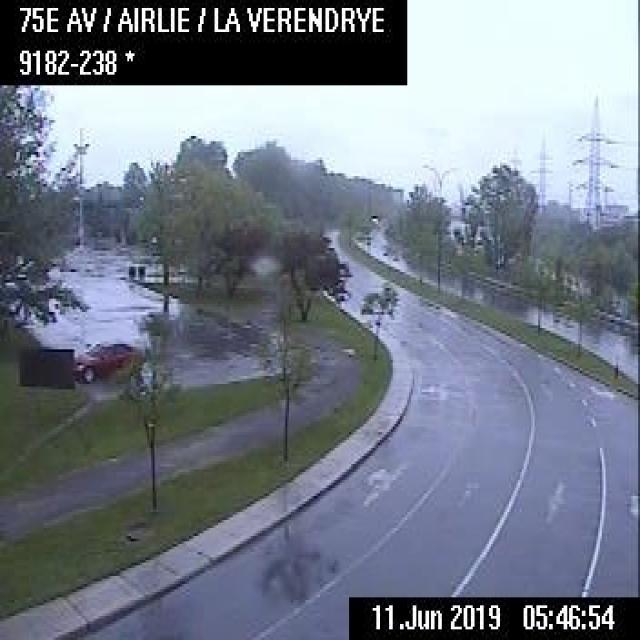vehicle: (72, 338, 145, 382)
